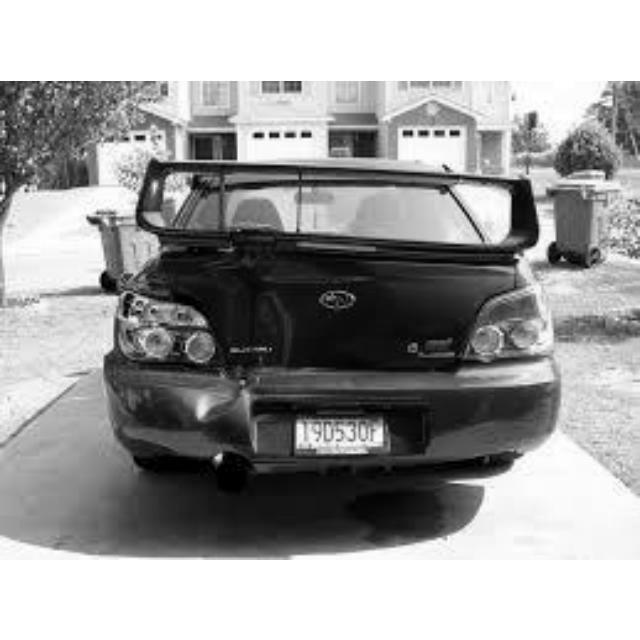Taillight-Damage: (115, 278, 218, 374)
boot-dent: (208, 265, 457, 391)
rear-bumper-dent: (193, 394, 467, 478)
